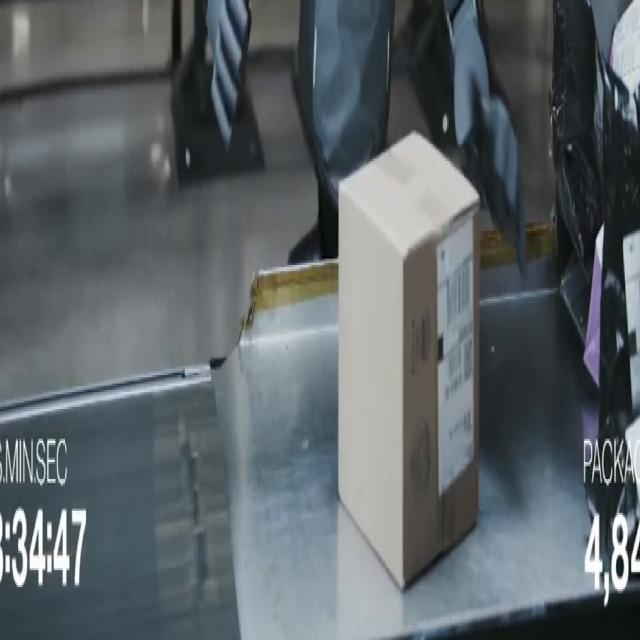package: (338, 134, 479, 589), (597, 56, 639, 561), (552, 0, 602, 275), (584, 227, 603, 385), (611, 0, 639, 91)
